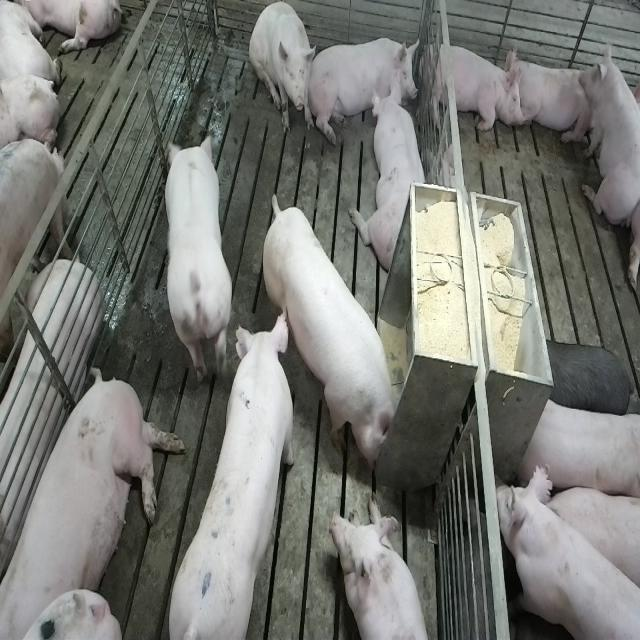Feeding: (268, 193, 404, 475)
Lateral_lying: (5, 362, 186, 636), (0, 261, 102, 579)
Sitting: (250, 4, 316, 140)
Standing: (166, 308, 298, 636), (498, 458, 638, 640), (160, 138, 233, 390), (0, 139, 72, 387), (514, 398, 638, 510), (539, 334, 638, 418)
Sternal_lying: (356, 84, 431, 274), (334, 503, 435, 640), (312, 30, 418, 136), (579, 39, 638, 228), (425, 37, 522, 136), (510, 52, 594, 146)
